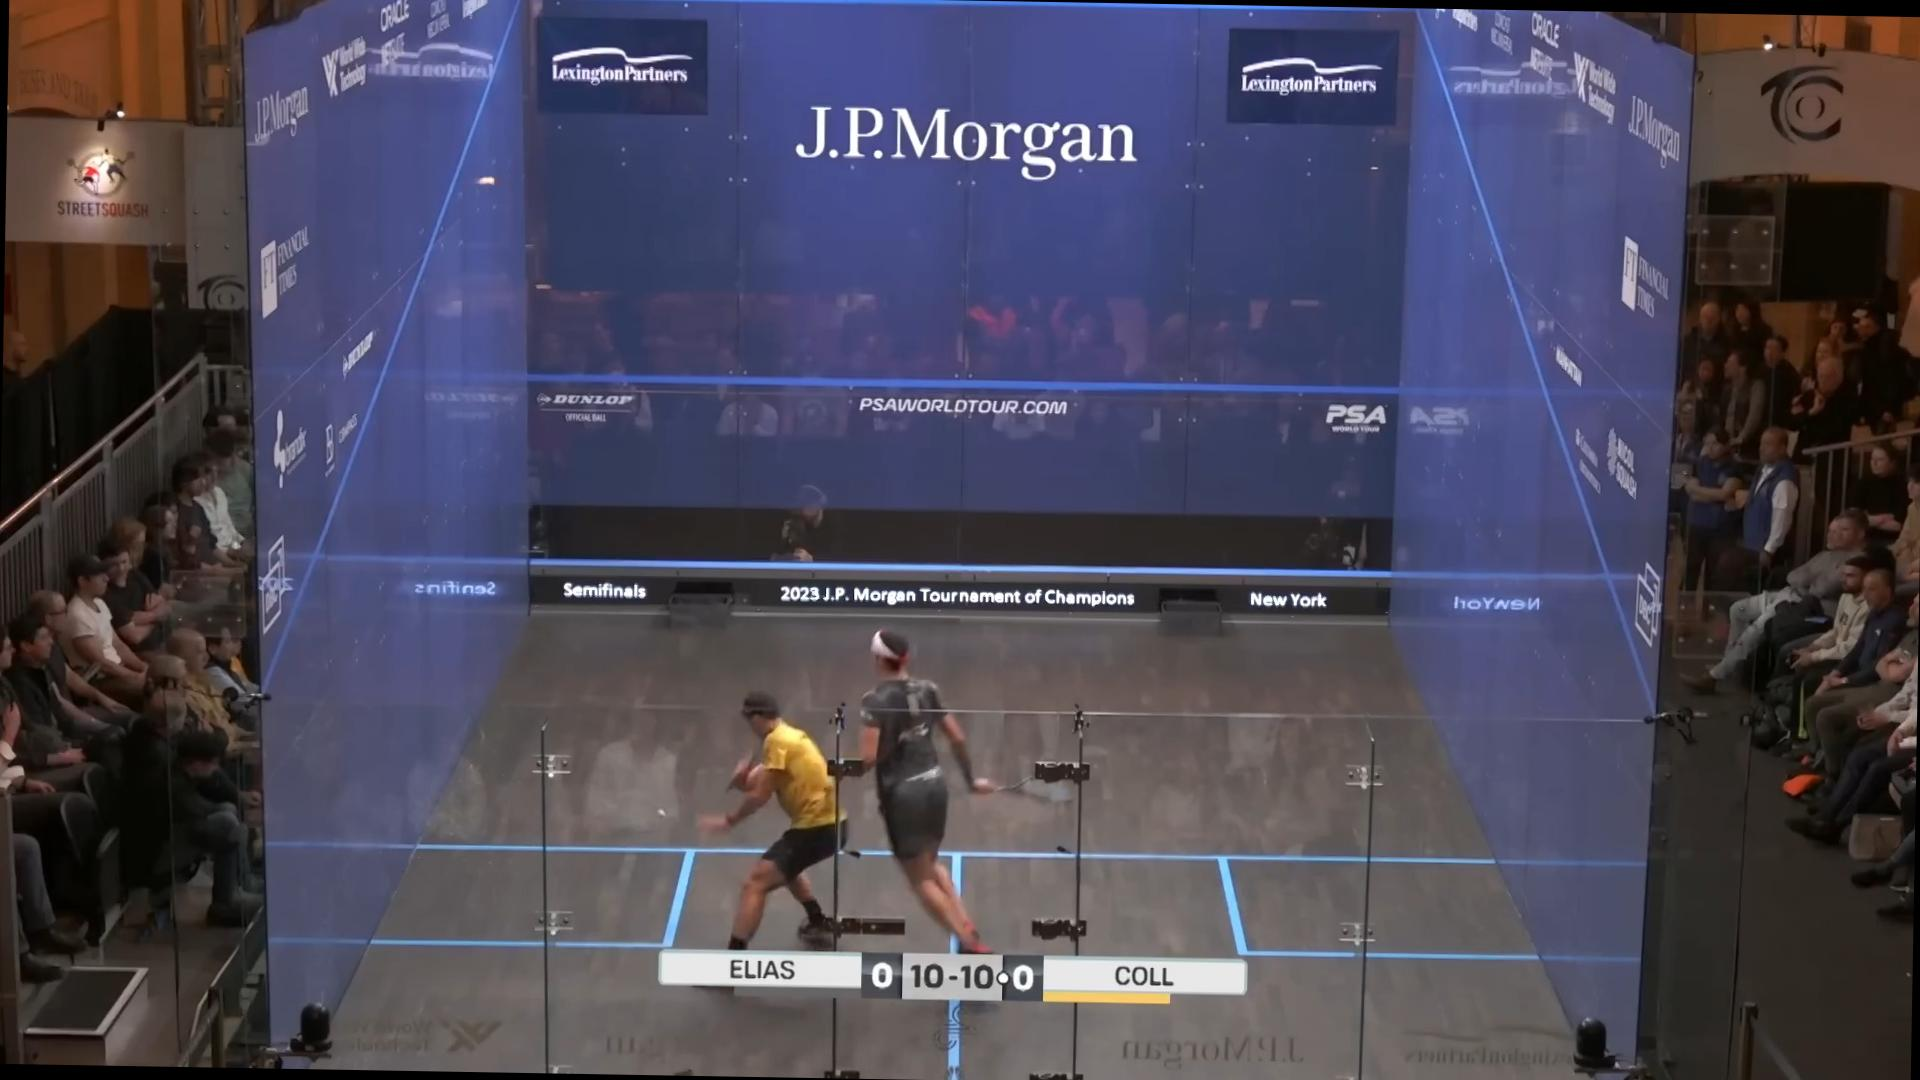Racket: (996, 760, 1087, 814)
